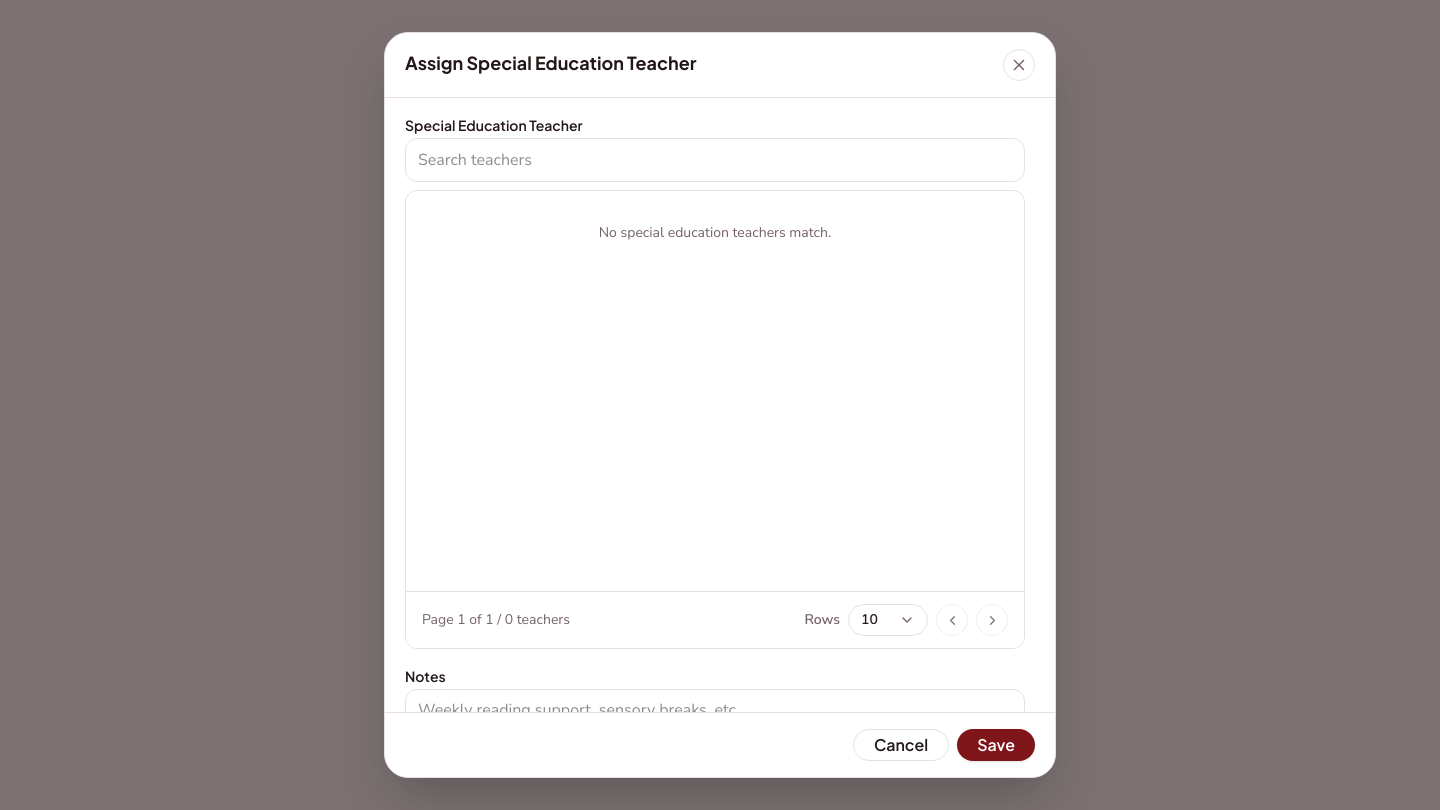
Test: SupportAssignmentDialog › requires a teacher before submit
Click the button "Save" at coordinates (996, 745), box [957,729,1035,761]
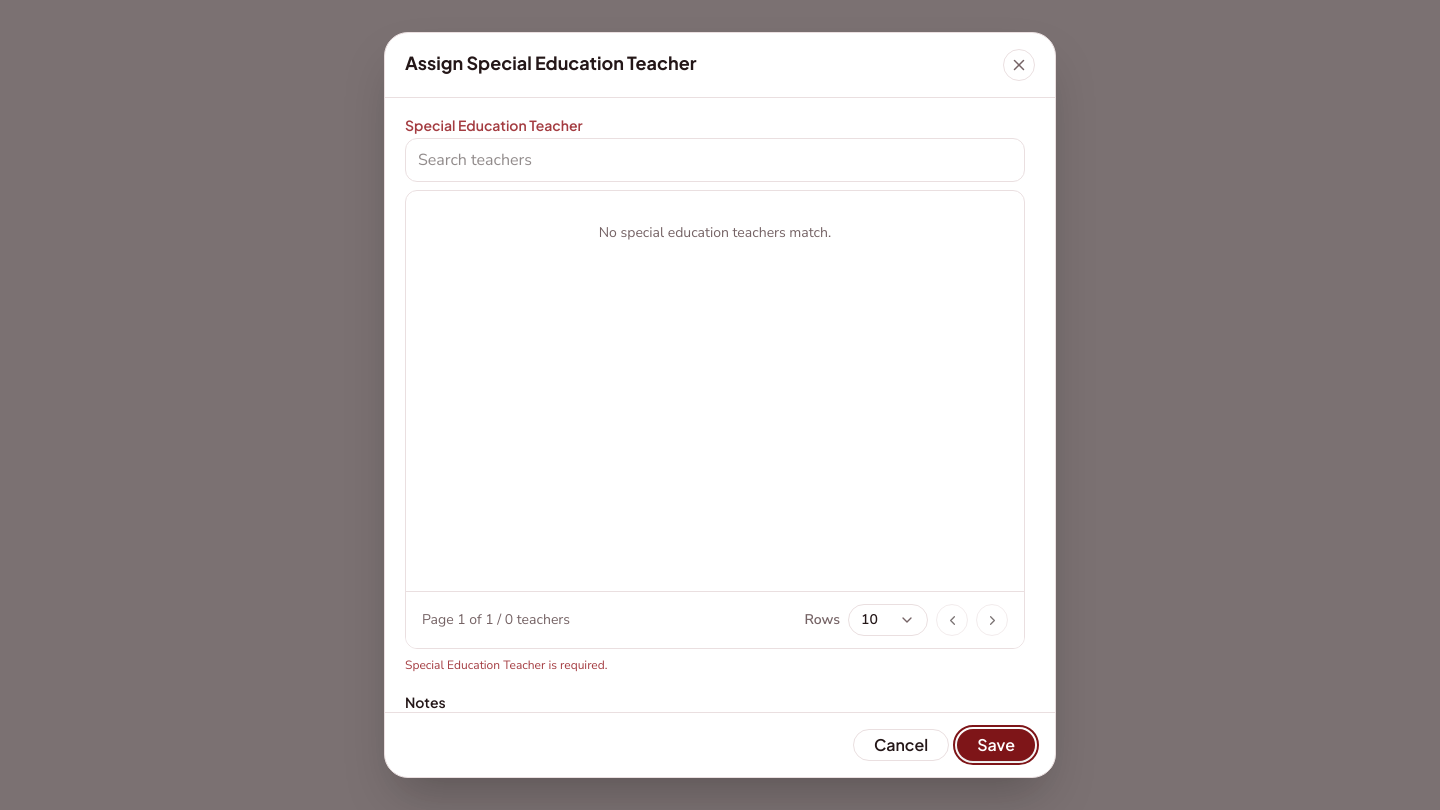
expect the text "Special Education Teacher is required." is shown: met, box [405,657,608,673]
